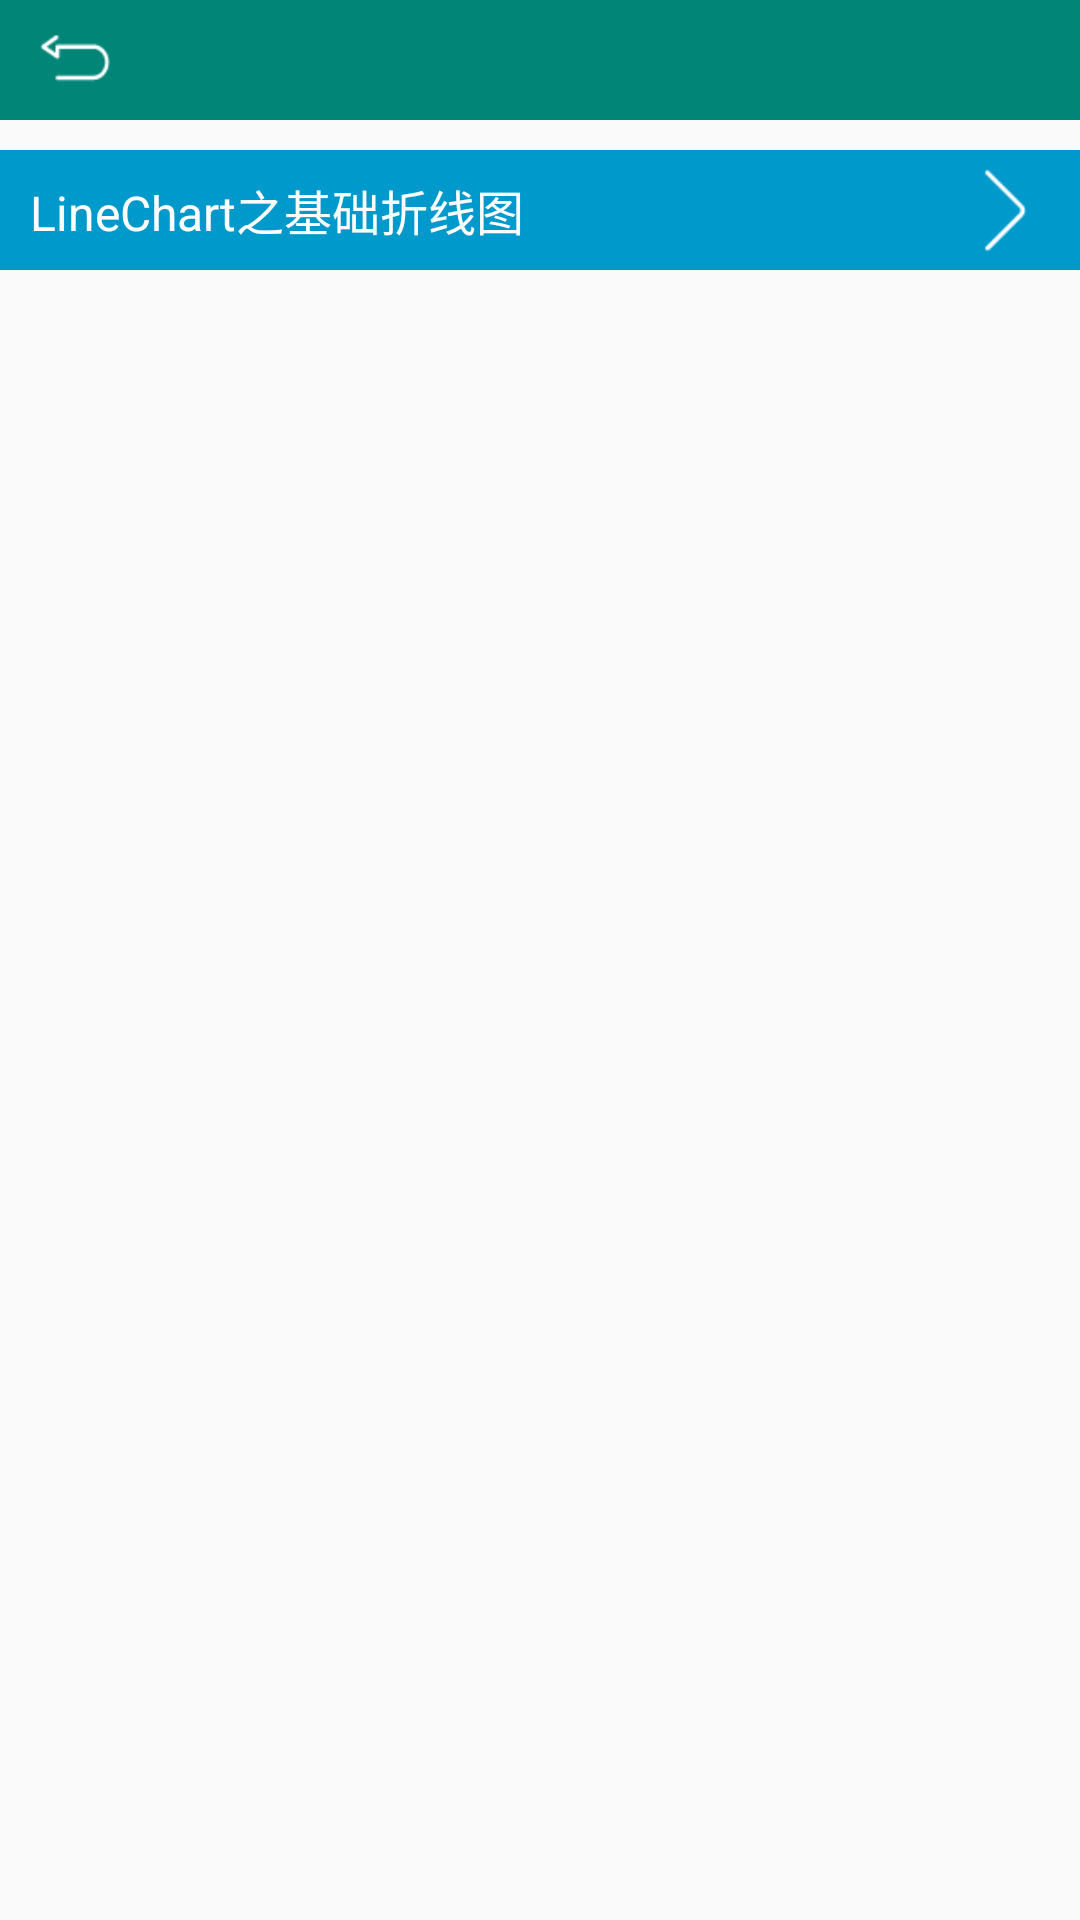

Icons on this 1080px×1920px Android screen, each with the point to tap as (x,y):
back: (75,58)
next: (1005,210)
